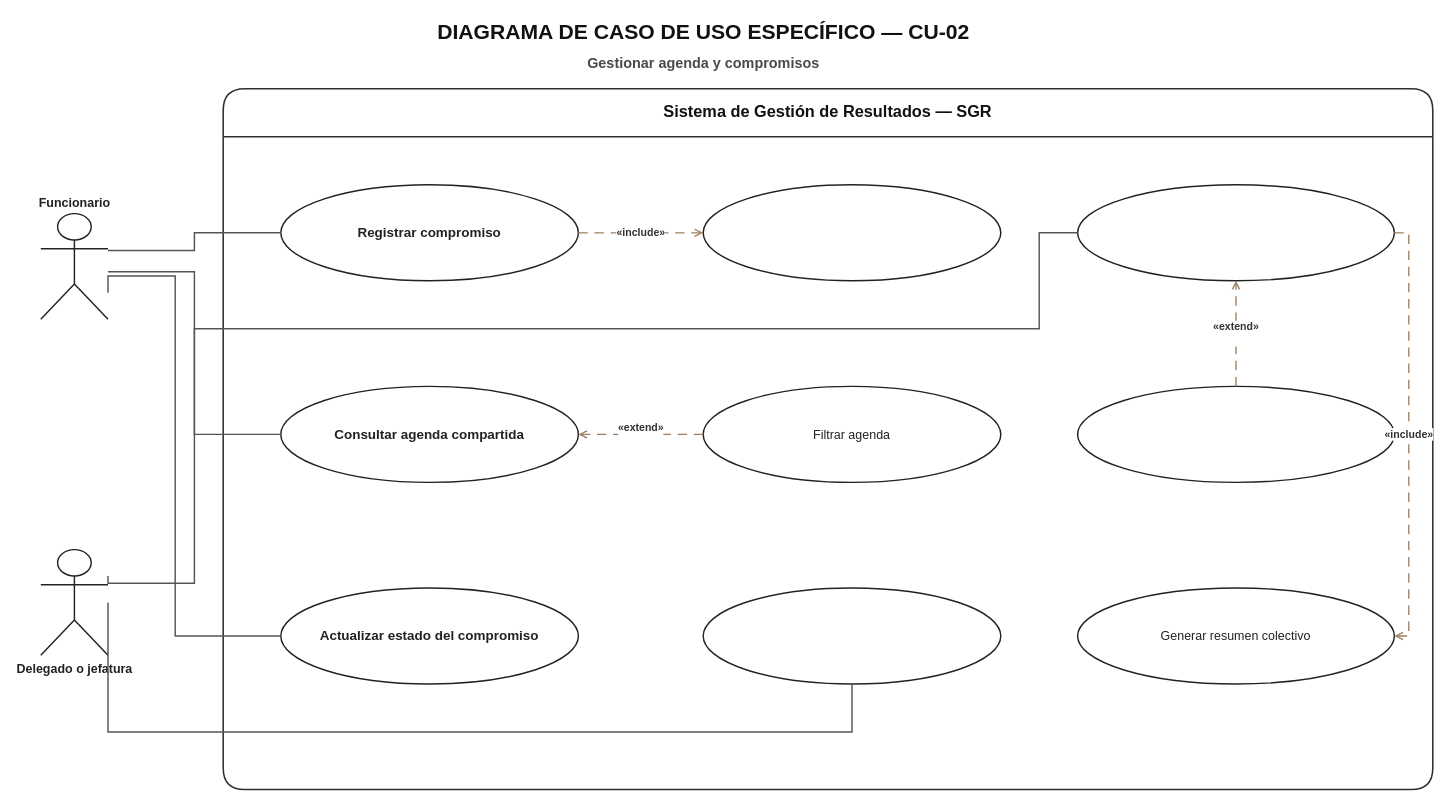
This 1451x806 diagram has some shape labels left out. Each missing label, with the centre of its shape:
"Asignar responsable y fecha" goes at pixel 851 232.
"Emitir alerta de vencimiento" goes at pixel 1235 434.
"Monitorear compromisos y plazos" goes at pixel 1235 232.
"Reasignar compromiso" goes at pixel 851 635.
